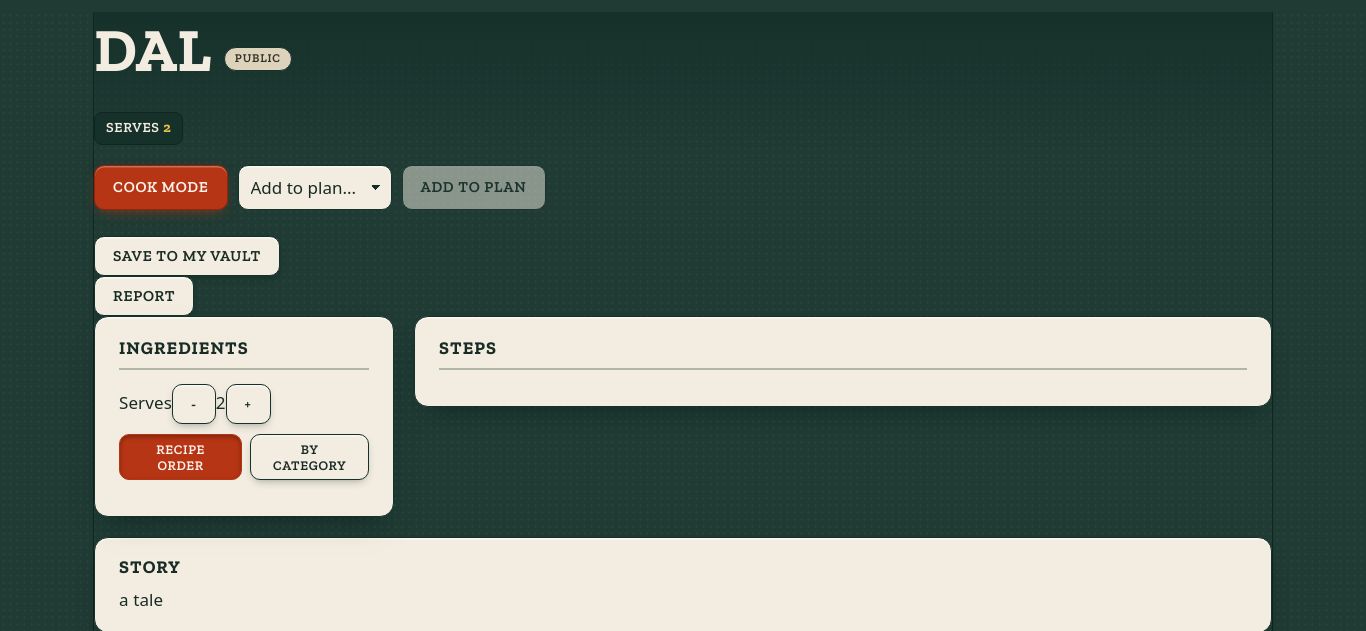
Scenario: once reported the control reads Reported and is disabled
Click the button "Report" at [144, 296], box [94, 276, 194, 316]
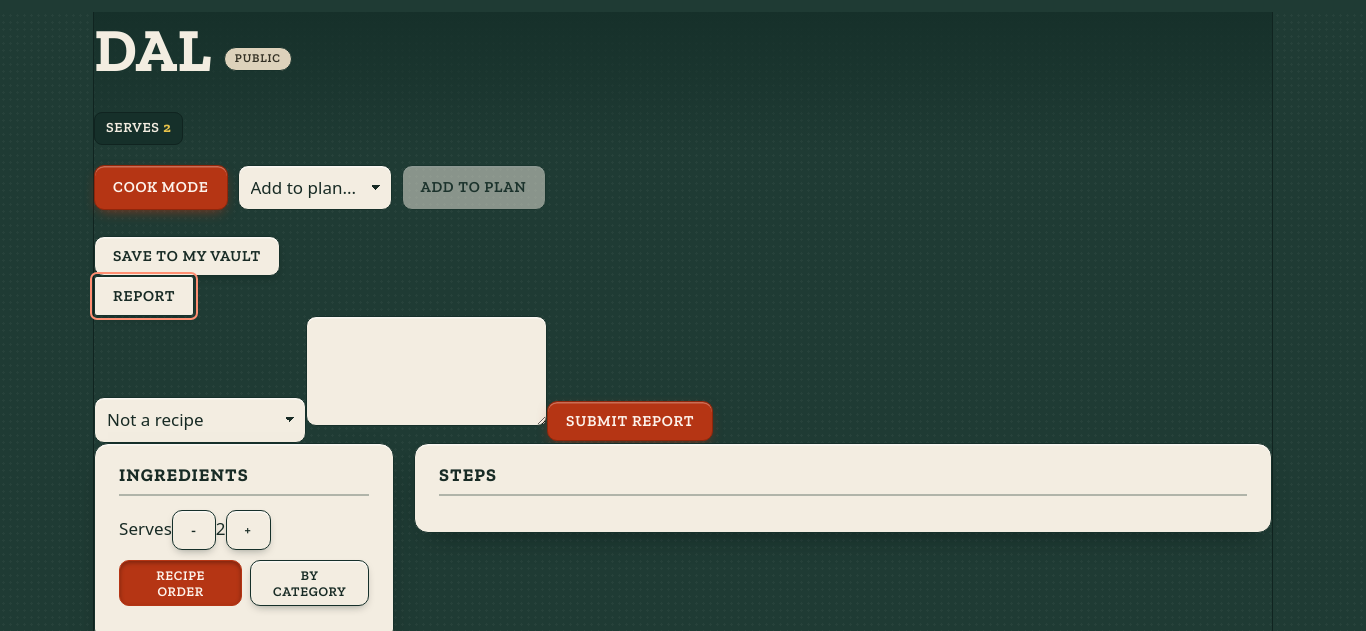
Click the button "Submit report" at [630, 421], box [547, 401, 713, 441]
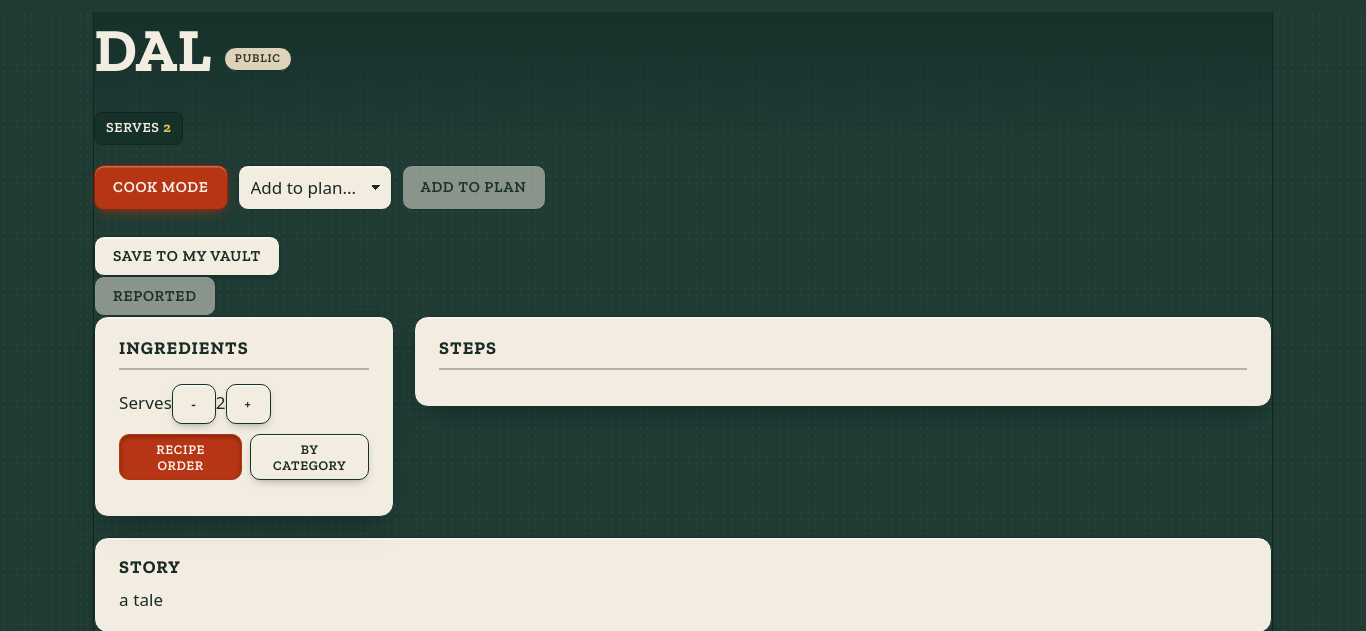
Expected: the button "Reported" is disabled, [94, 276, 216, 316]
